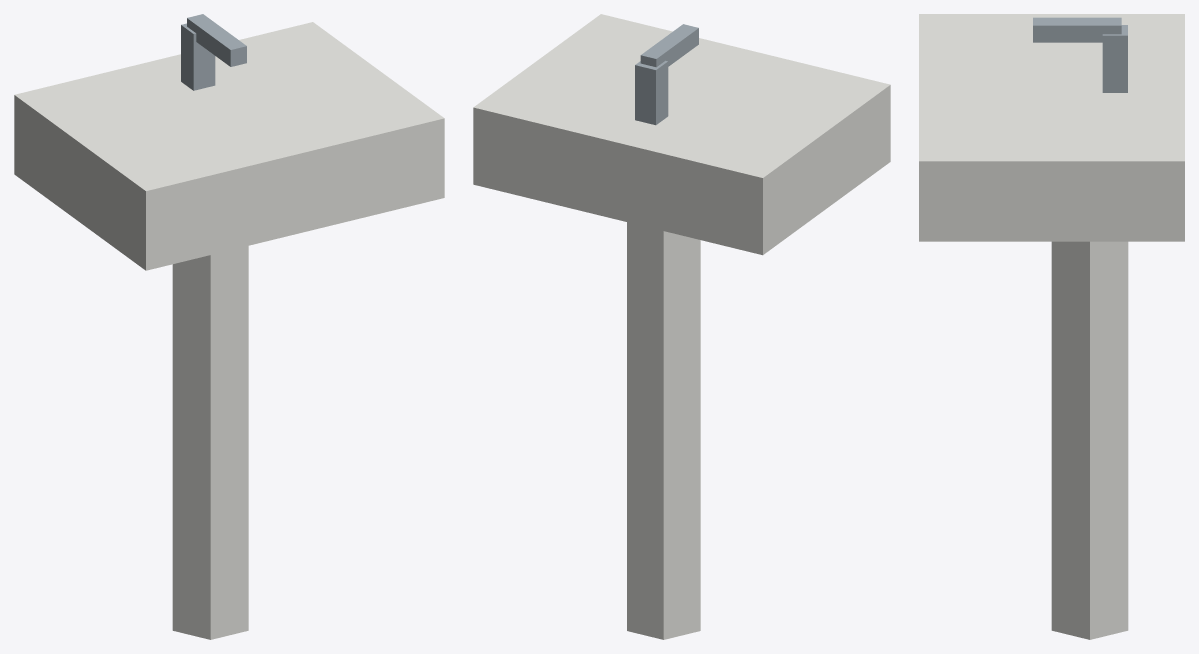
Rendered from GH_Sink_Bath_01.glb.
3 views of the same model, side by side, from view 1: azimuth 30°, elevation 25°; view 2: azimuth 150°, elevation 25°; view 3: azimuth 270°, elevation 25° (orthographic). The views are drawn at different scales.
Parts seen in each view (by area): view 1: GH_Sink_Bath_01; view 2: GH_Sink_Bath_01; view 3: GH_Sink_Bath_01.
Part boxes in pixels (<box>): GH_Sink_Bath_01: <box>14,14,444,639</box>; GH_Sink_Bath_01: <box>473,14,890,639</box>; GH_Sink_Bath_01: <box>919,14,1184,639</box>.
Bounding box in the file's own units: 0.55 × 1.04 × 0.42.
1 material, 1 textured.
